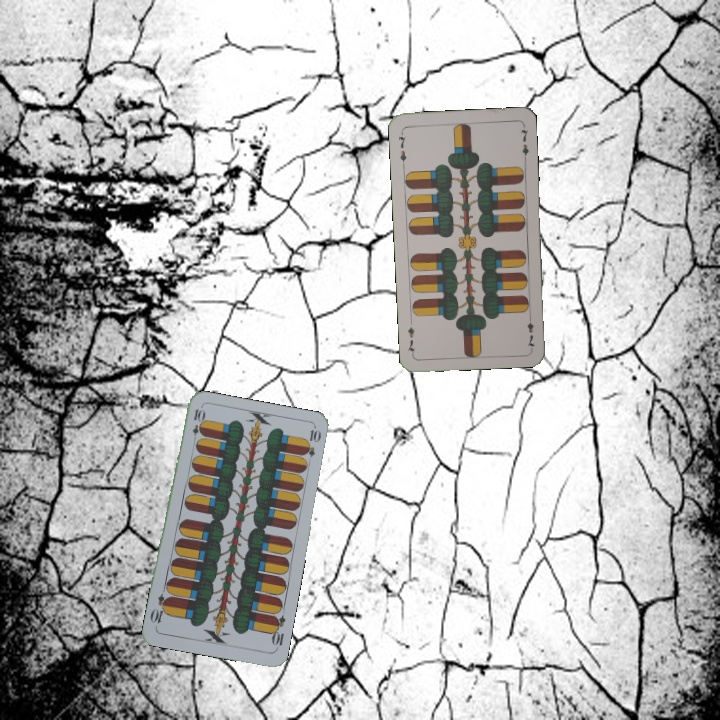E10: (267, 612, 288, 652), (188, 405, 205, 446)
E7: (394, 128, 409, 168), (523, 310, 537, 351)
